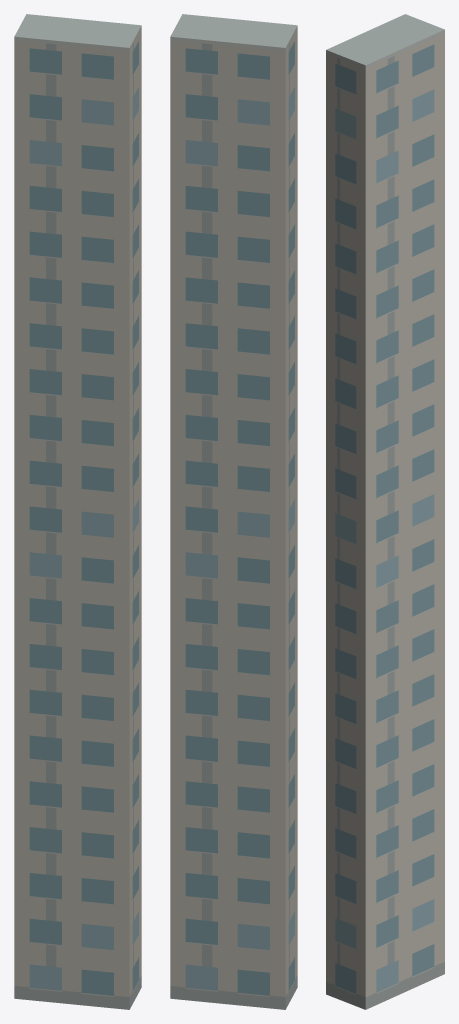
File: survey-upis-32538197.glb
3 renders of one model, left to right at view 1: azimuth 30°, elevation 25°; view 2: azimuth 210°, elevation 25°; view 3: azimuth 270°, elevation 25°, orthographic.
Visible parts, largest first — view 1: survey-upis-32538197.tmp; view 2: survey-upis-32538197.tmp; view 3: survey-upis-32538197.tmp.
Part boxes in pixels (box(x1,y1,x2,y2)): survey-upis-32538197.tmp: box(14, 14, 141, 1009); survey-upis-32538197.tmp: box(170, 14, 297, 1009); survey-upis-32538197.tmp: box(326, 14, 444, 1009).
Bounding box in the file's own units: 7.48 × 64.05 × 7.31.
